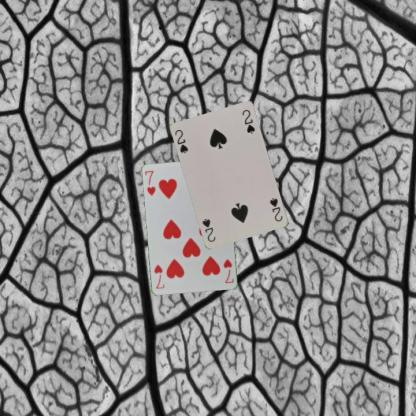2s: (172, 127, 190, 155), (268, 195, 284, 223)
7h: (221, 256, 235, 285), (143, 168, 157, 197)
